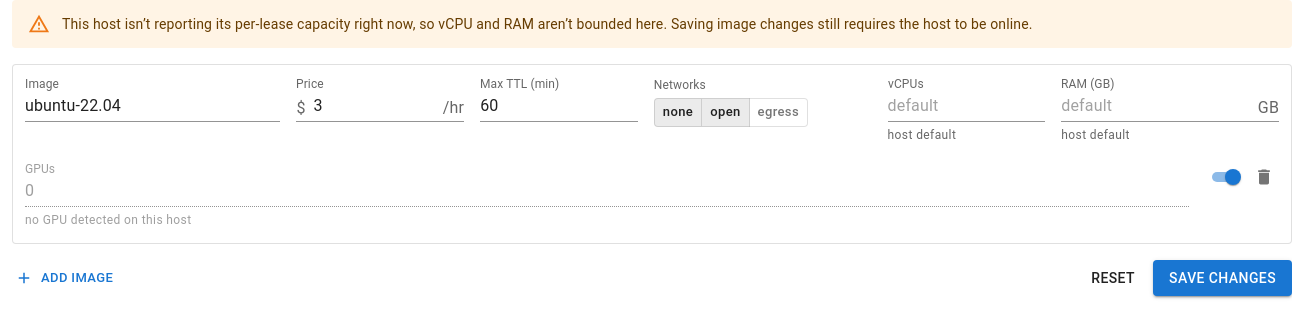
Test: HostImagesEditor › saves the full image list with price, ttl, and networks
Replace the text in the number field named "price for ubuntu-22.04" with "6" at (374, 108), box [314, 93, 435, 122]
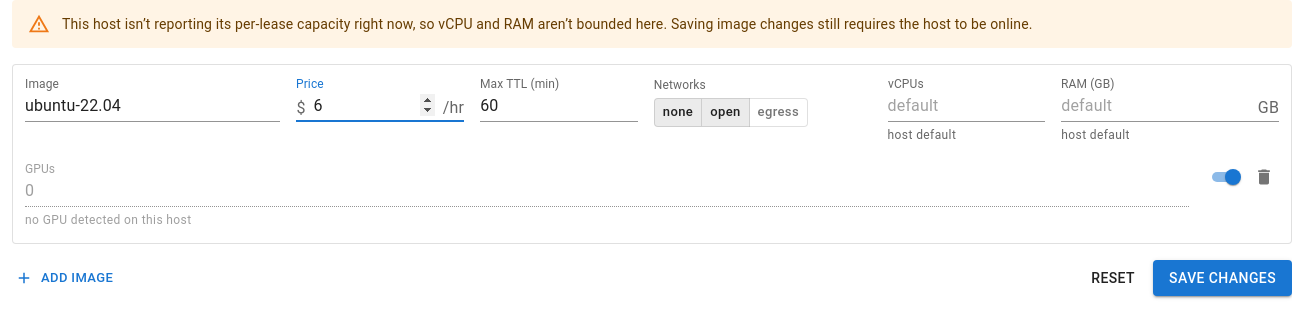
Click the button "Save changes" at (1223, 278), box [1153, 260, 1292, 296]
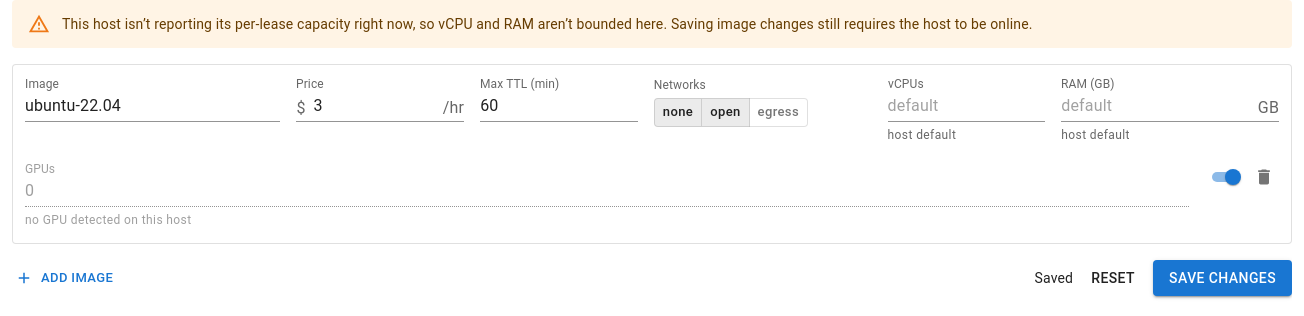
Expected: the text "Saved" is shown, [1034, 268, 1073, 288]
